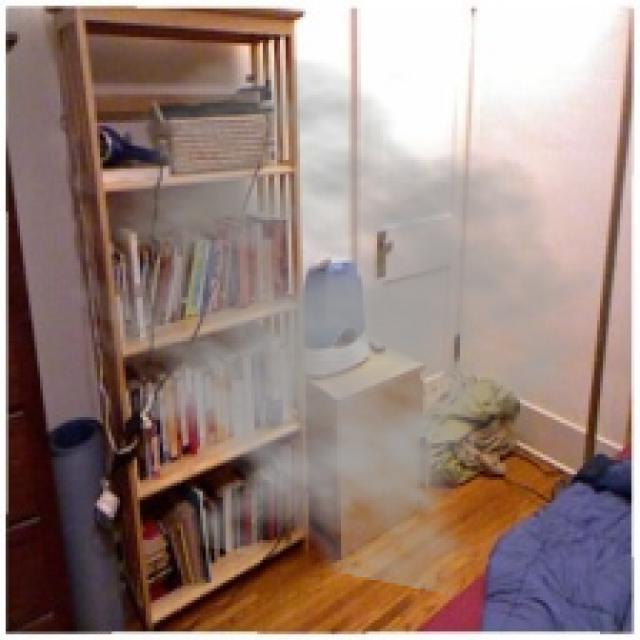smoke: (45, 52, 606, 597)
